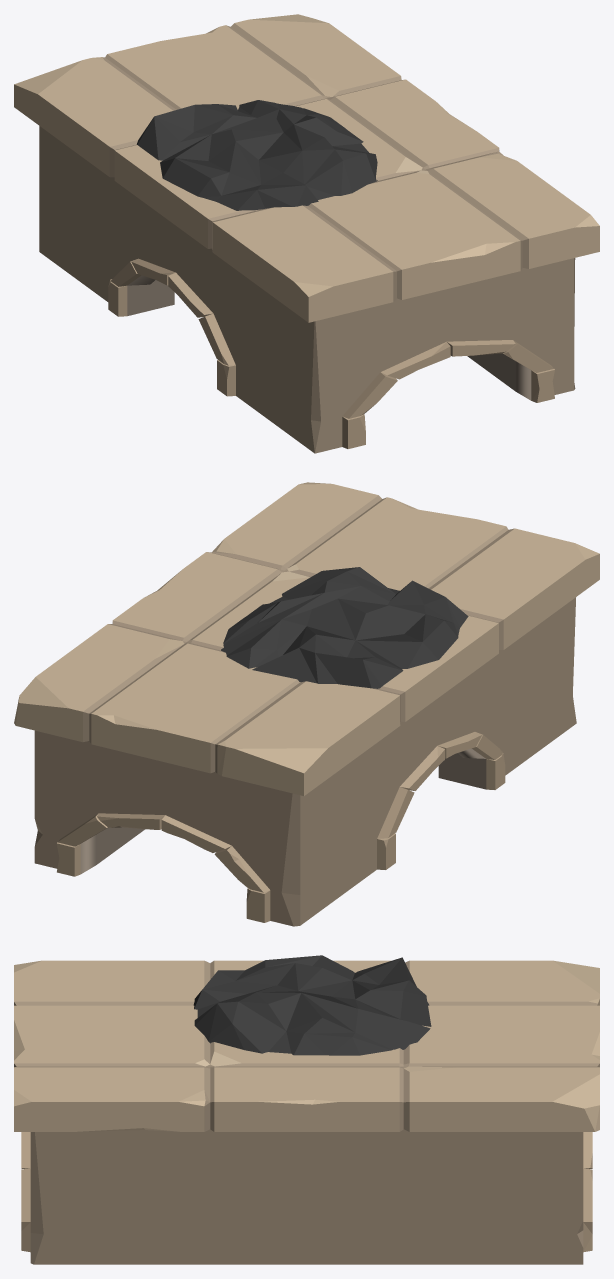
File: SM_Prop_Cooking_Block_02.fbx
3 views of the same model, one above another, from view 1: azimuth 30°, elevation 25°; view 2: azimuth 150°, elevation 25°; view 3: azimuth 270°, elevation 25° (orthographic).
Parts seen in each view (by area): view 1: SM_Prop_Cooking_Block_02; view 2: SM_Prop_Cooking_Block_02; view 3: SM_Prop_Cooking_Block_02.
Boxes of the visible parts, x1,y1,x2,y2 form: SM_Prop_Cooking_Block_02: (14, 14, 599, 453); SM_Prop_Cooking_Block_02: (14, 482, 599, 926); SM_Prop_Cooking_Block_02: (14, 955, 599, 1264).
Size of the model in its own units: 1.43 by 0.9447 by 2.5.
Materials: 1 (1 with a texture image).
